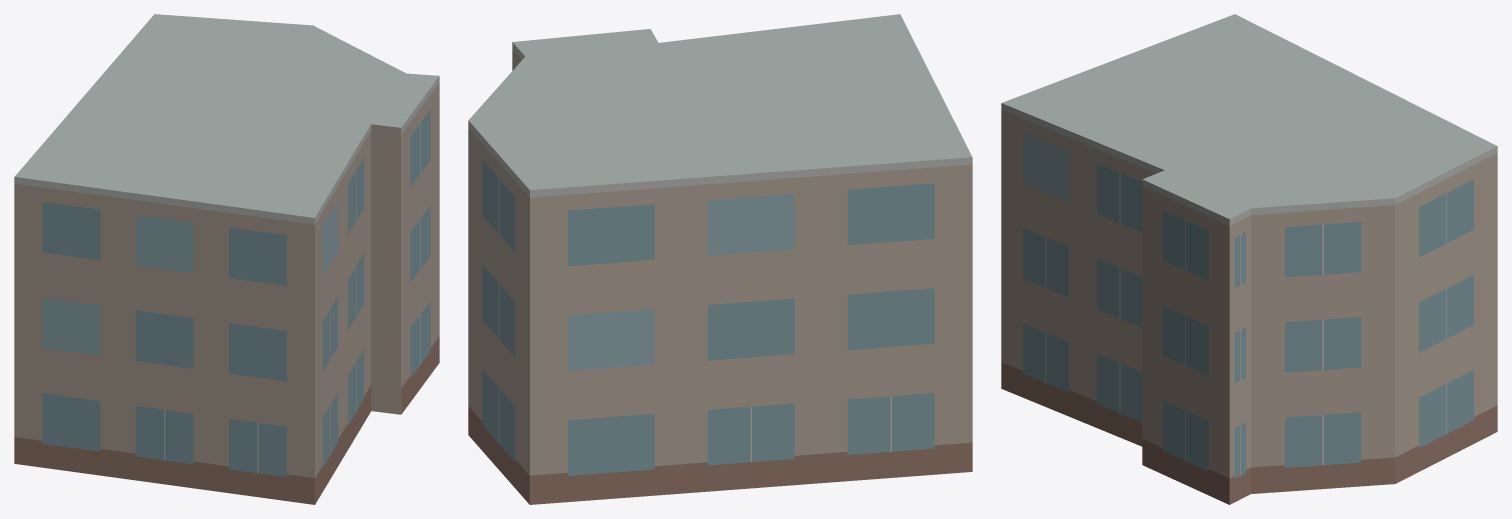
The model's file is survey-upis-32864632.glb.
3 views of the same model, side by side, from view 1: azimuth 30°, elevation 25°; view 2: azimuth 150°, elevation 25°; view 3: azimuth 270°, elevation 25° (orthographic). The views are drawn at different scales.
Parts seen in each view (by area): view 1: survey-upis-32864632.tmp; view 2: survey-upis-32864632.tmp; view 3: survey-upis-32864632.tmp.
Boxes of the visible parts, x1,y1,x2,y2 form: survey-upis-32864632.tmp: (14,14,439,504); survey-upis-32864632.tmp: (468,14,972,504); survey-upis-32864632.tmp: (1001,14,1497,504).
Size of the model in its own units: 16.03 by 10.4 by 16.38.
